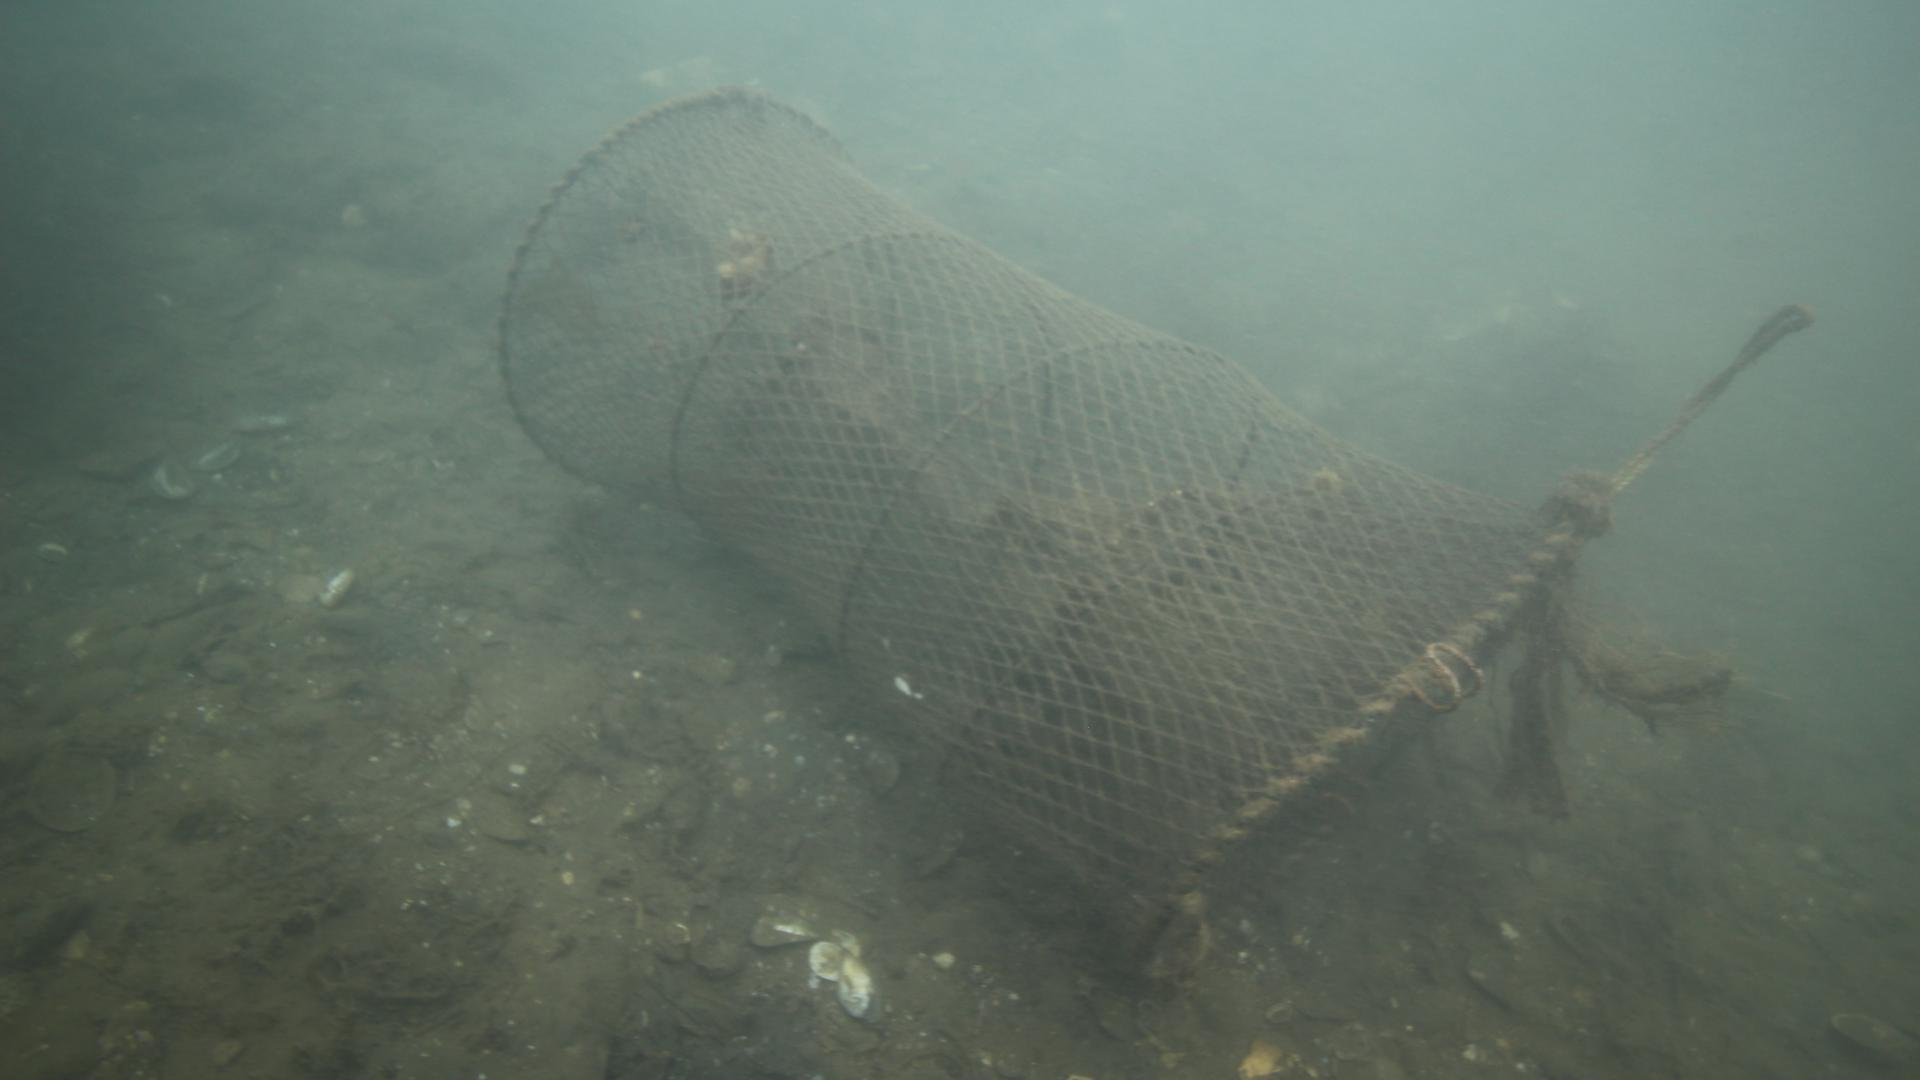bundle of ropes: (1551, 295, 1815, 530)
spring fish trap: (495, 82, 1590, 1002)
